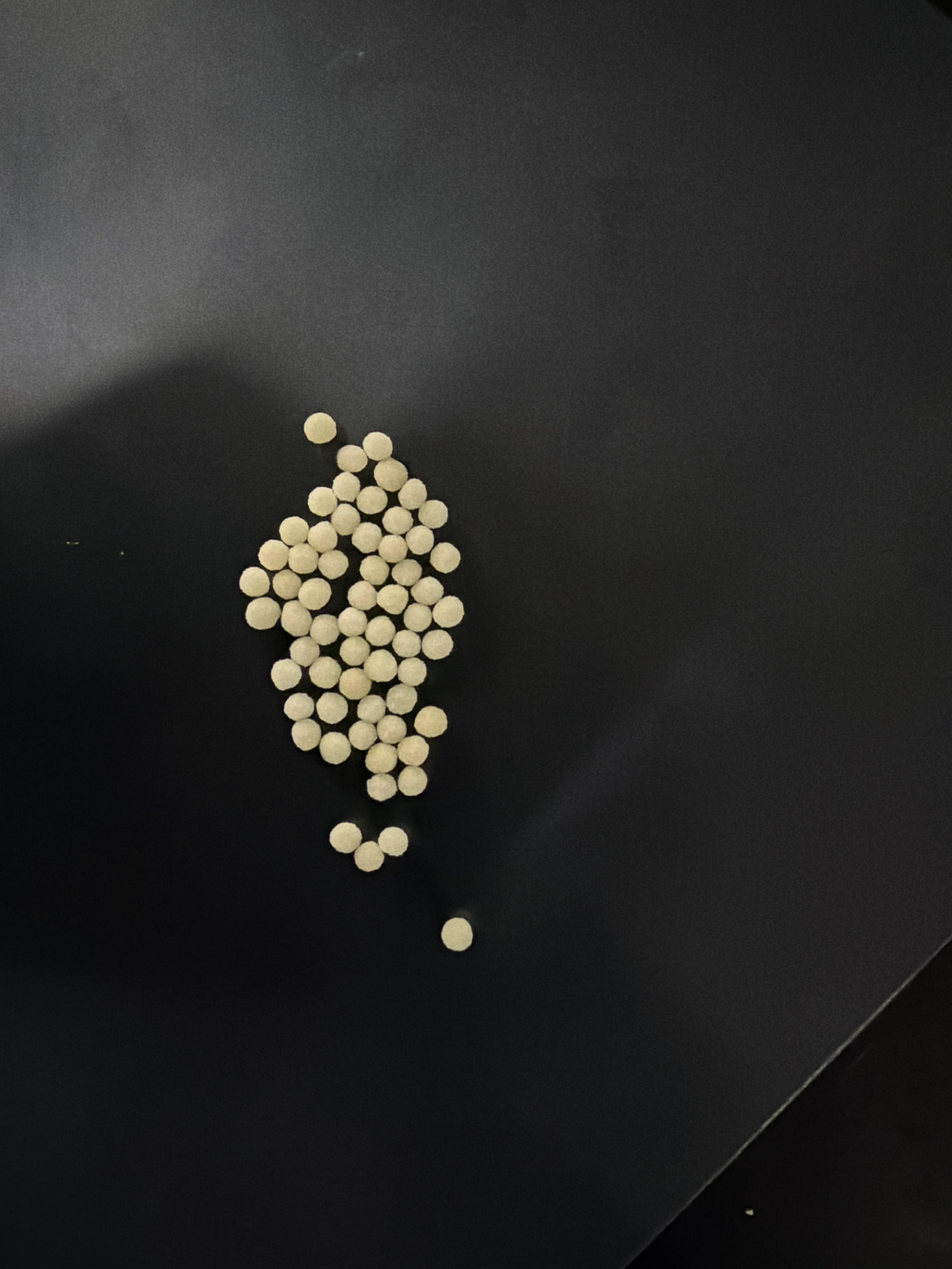pill: (239, 431, 464, 802), (296, 578, 331, 612), (280, 600, 312, 637), (308, 655, 342, 689), (374, 458, 408, 492), (364, 648, 397, 683), (338, 667, 371, 701), (315, 692, 348, 726), (441, 916, 473, 951), (330, 501, 361, 537), (414, 705, 447, 738), (246, 598, 280, 630), (329, 821, 362, 853), (385, 683, 418, 715), (304, 412, 337, 444), (289, 634, 320, 668), (365, 742, 397, 774), (429, 541, 461, 573), (377, 583, 409, 615), (316, 548, 348, 580), (433, 595, 464, 628), (411, 575, 444, 606), (319, 731, 350, 764), (288, 541, 319, 574), (360, 553, 390, 587), (397, 735, 429, 766), (377, 534, 408, 566), (351, 522, 382, 554), (271, 659, 302, 691), (422, 629, 453, 660), (365, 615, 396, 646), (356, 484, 387, 515), (271, 569, 302, 600), (377, 714, 407, 746), (347, 580, 377, 612), (258, 539, 288, 571), (331, 470, 360, 503), (397, 766, 428, 796), (354, 840, 384, 871), (391, 558, 422, 588), (339, 636, 370, 666), (417, 499, 448, 529), (279, 516, 309, 547), (239, 567, 270, 597), (348, 719, 377, 751), (310, 613, 339, 645), (307, 520, 336, 552), (292, 718, 320, 751), (378, 826, 408, 856), (337, 607, 367, 637), (362, 432, 392, 462), (405, 525, 434, 556), (382, 506, 413, 535), (398, 479, 427, 510), (336, 445, 368, 473), (398, 657, 427, 687), (403, 603, 432, 633), (284, 692, 314, 721), (308, 486, 337, 516), (357, 695, 386, 724), (391, 629, 420, 658), (366, 774, 396, 801)
